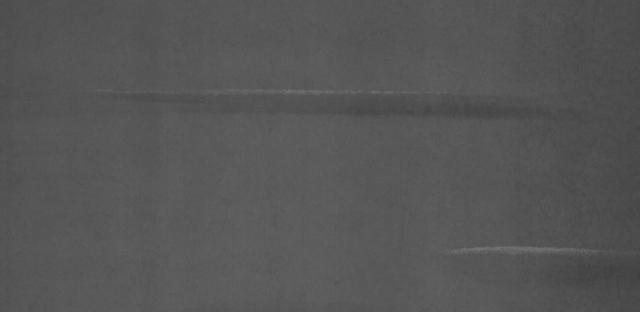crease: (87, 79, 566, 115)
